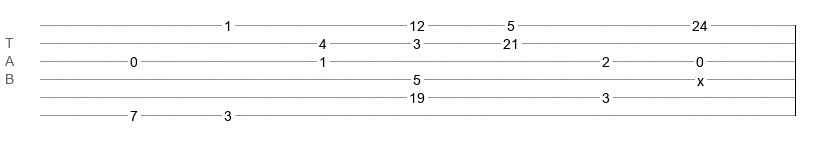0: (130, 54, 138, 64), (696, 54, 704, 64)
1: (224, 18, 232, 28), (319, 54, 327, 64)
12: (409, 18, 425, 28)
19: (409, 90, 425, 100)
2: (602, 54, 610, 64)
21: (503, 36, 519, 46)
24: (692, 18, 708, 28)
3: (224, 108, 232, 118), (413, 36, 421, 46), (602, 90, 610, 100)
4: (319, 36, 327, 46)
5: (413, 72, 421, 82), (507, 18, 515, 28)
7: (130, 108, 138, 118)
x: (697, 73, 704, 81)
